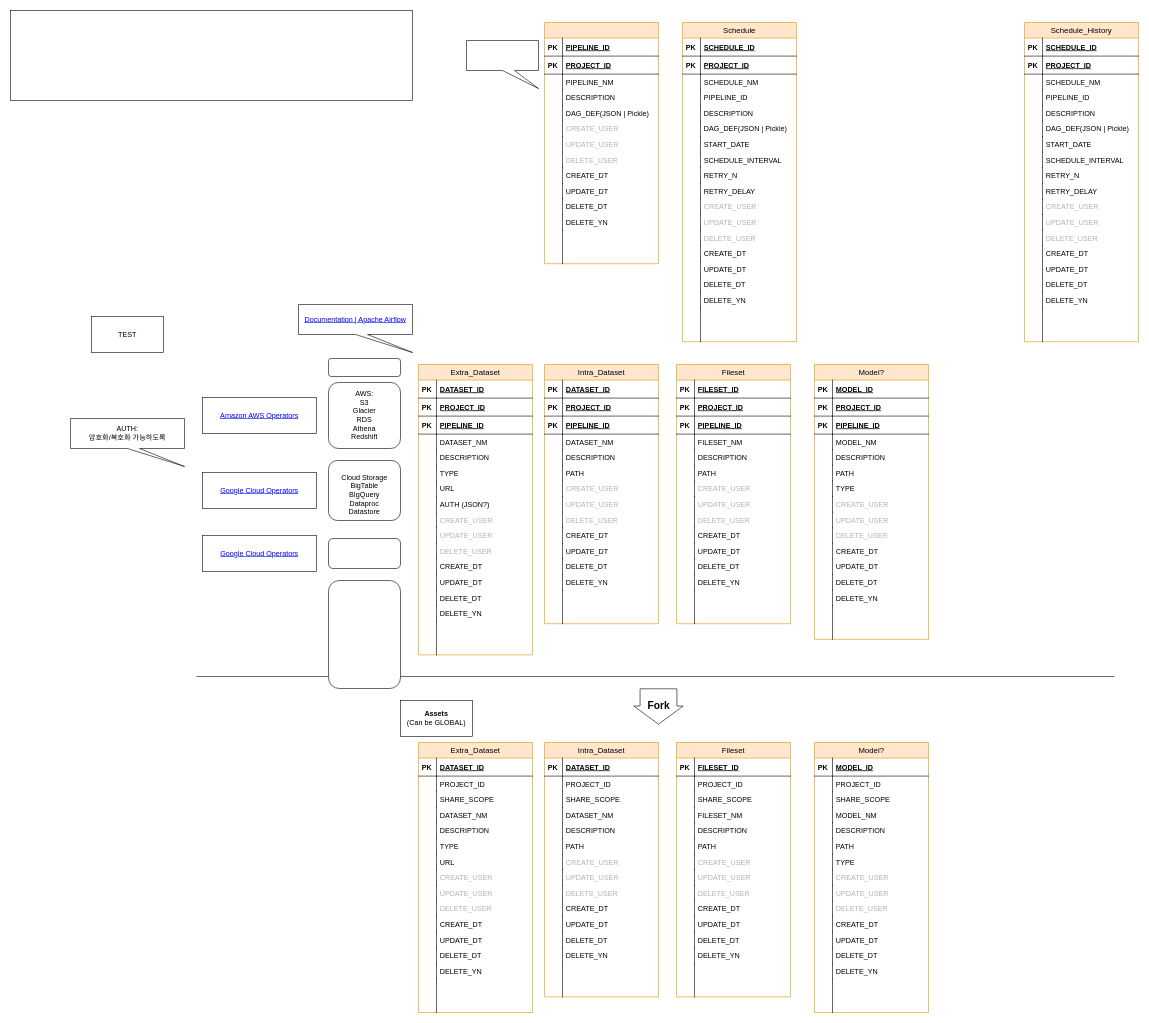
Image size: 1149x1023. Some labels were removed from this diagram. The box of each missing label's shape, as (x1, y1, x2, y2) in pixels:
Cloud Firestore Sheets: (328, 538, 400, 568)
HTTP FTP: (328, 358, 400, 376)
JDBC Sqlite MsSQL MySQL Oracle PIG Postgres Presto Druid Hive Redshift: (328, 580, 400, 688)
Join없이 쌓는 게 더 유리한가? (MSA 고려): (466, 40, 538, 88)
PIPELINE_ID: ppl-{uuid} DATASET_ID: dts-{uuid} FILESET_ID: fls-{uuid} ...: (10, 10, 412, 100)
Workflow: (544, 22, 658, 264)
